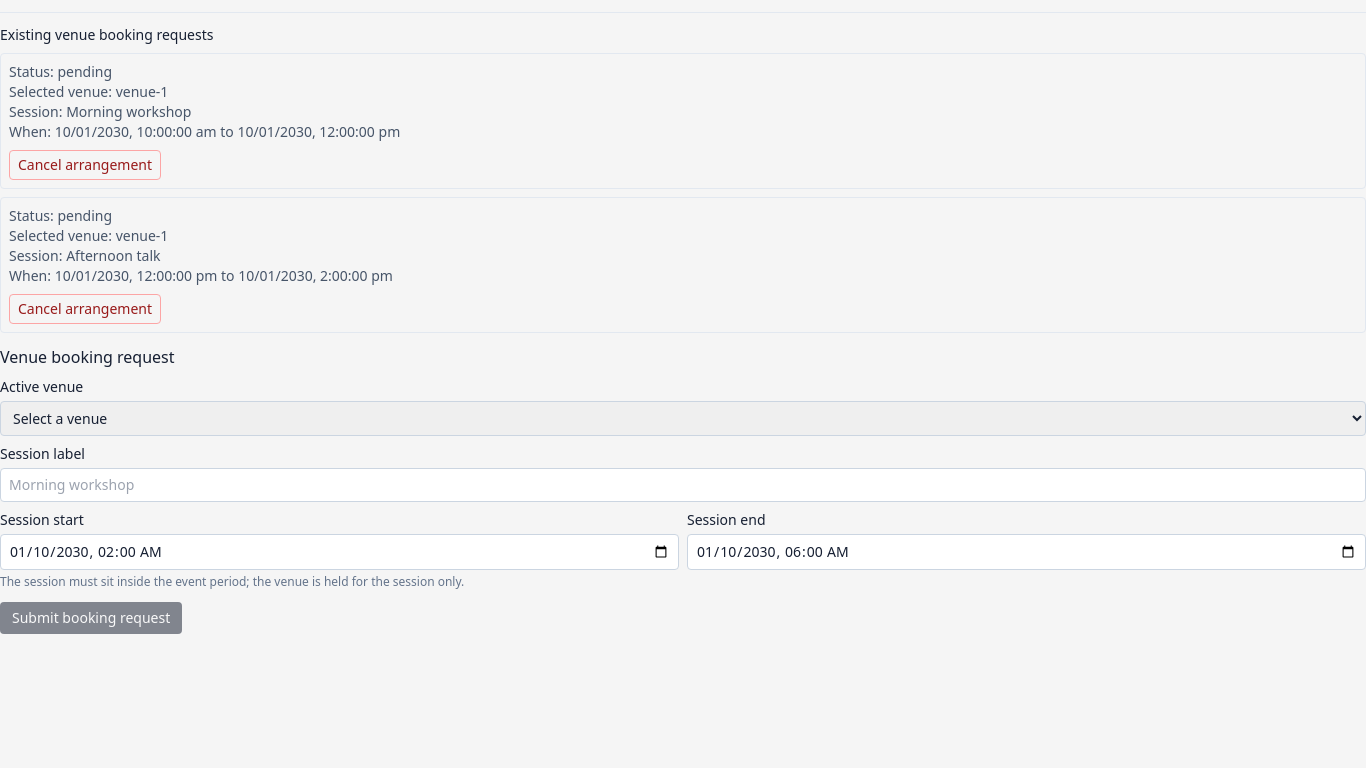
Test: SCRUM-109: confirming refreshes the bookings and shows who, when and why
Step 1. Click the button with aria-label "Cancel arrangement for Morning workshop" → (85, 165), box [9,150,161,180]
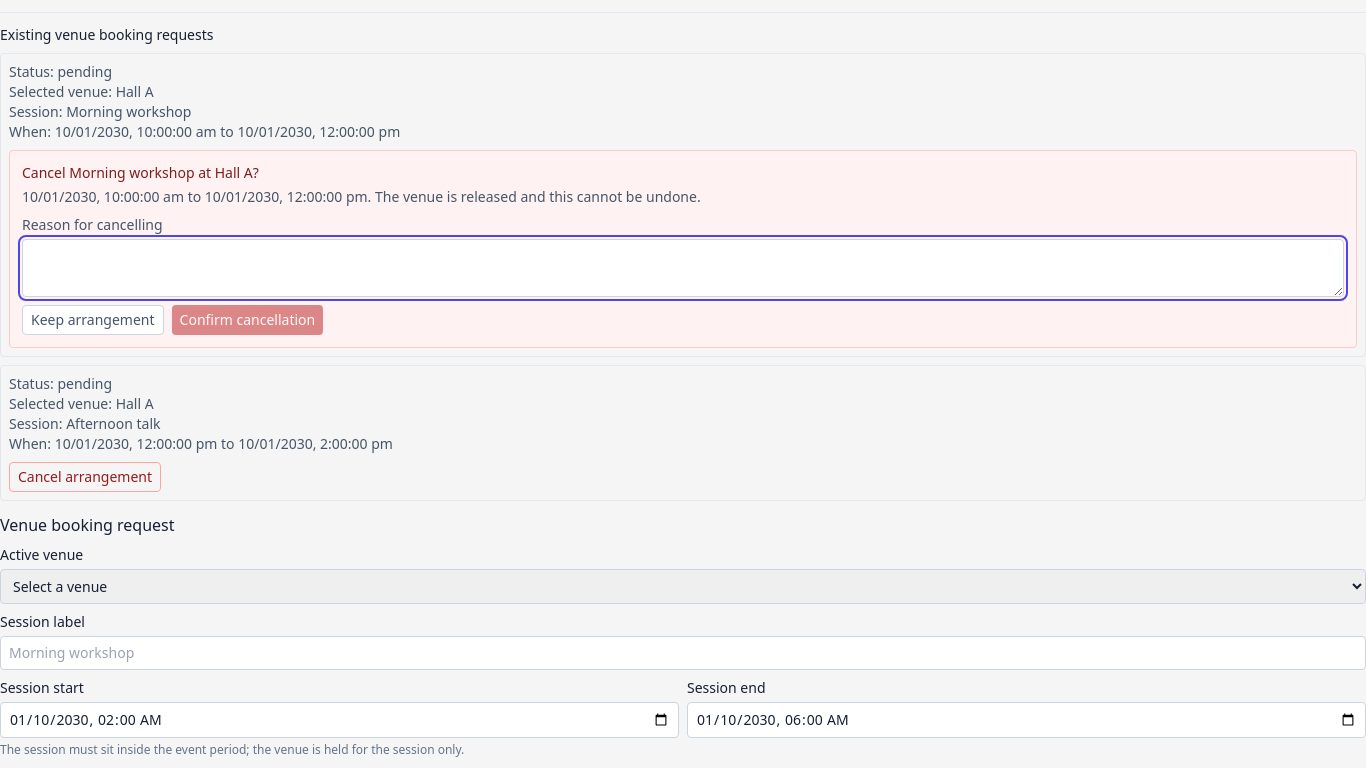
Step 2. Type "Moved online" into the text box labelled "Reason for cancelling" → (683, 268), box [22,239,1344,297]
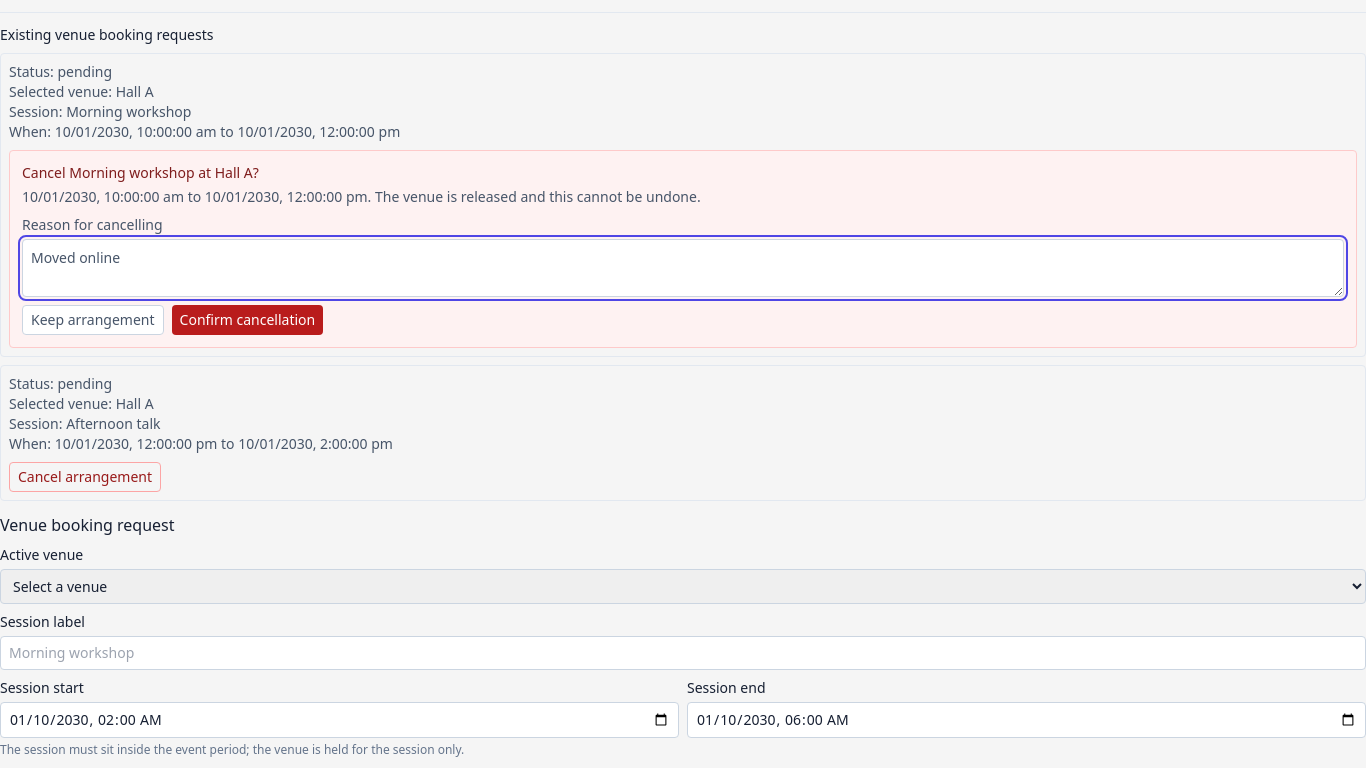
Step 3. Click the button "Confirm cancellation" → (247, 320), box [172,305,323,335]
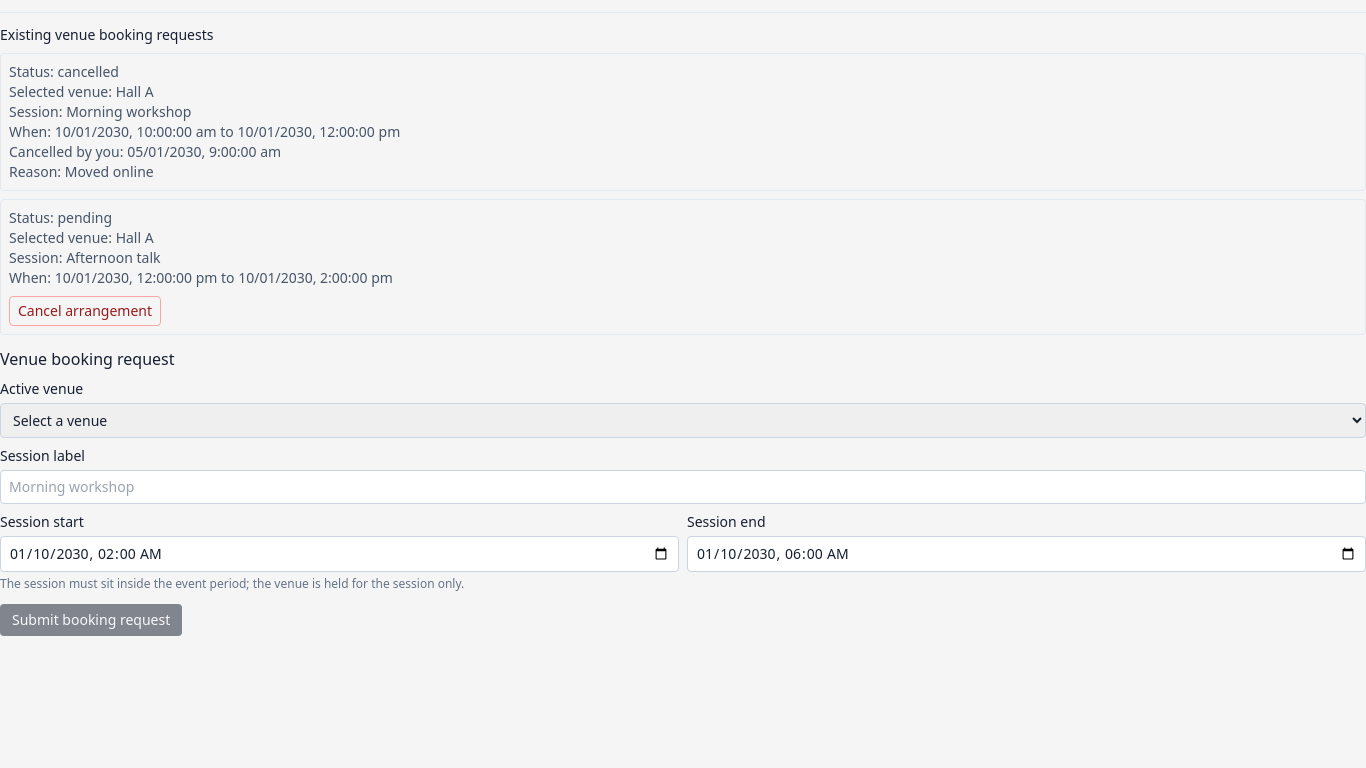
Expected: the text "cancelled" is shown, [57,62,119,81]
Expected: the text "Cancelled by you:" is shown, [9,142,127,161]
Expected: the dialog is gone
